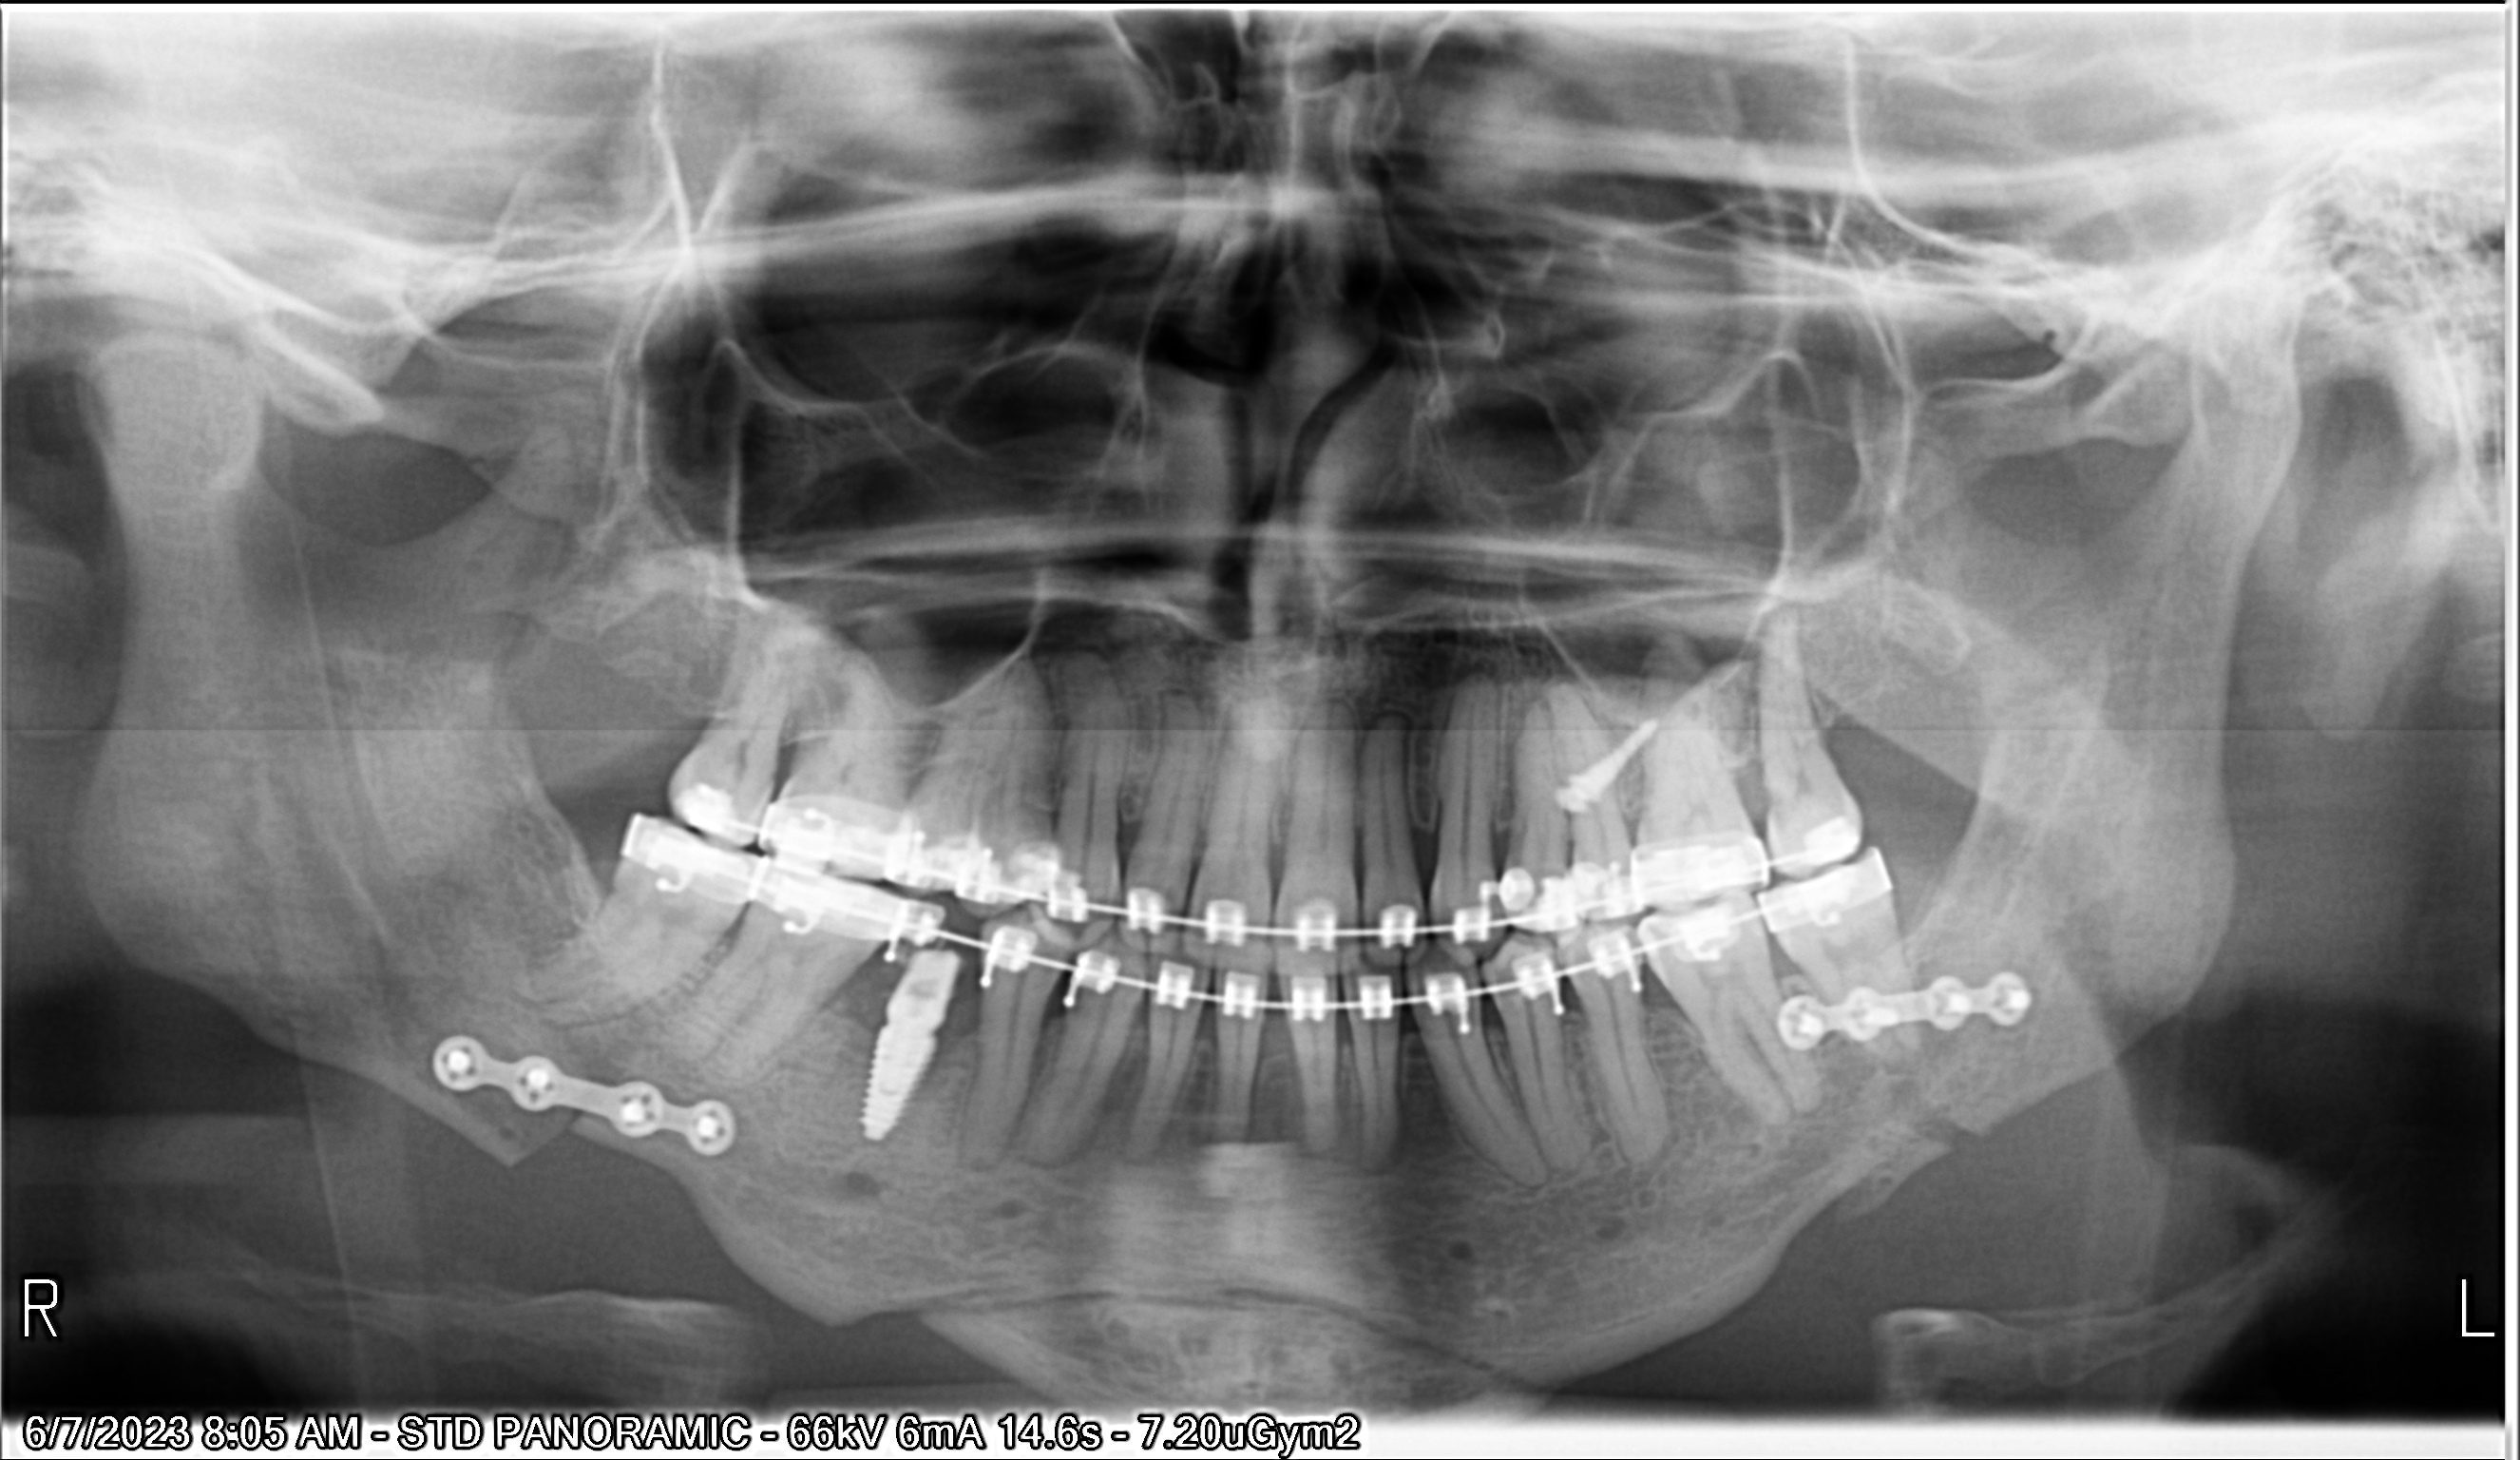IMP: (854, 932, 959, 1177)
OBT: (674, 773, 729, 850), (1019, 838, 1061, 900), (1565, 855, 1603, 921), (1804, 815, 1848, 869), (959, 834, 992, 902), (1683, 916, 1738, 952), (1501, 859, 1534, 914), (1471, 879, 1504, 925)
ORD: (1558, 683, 1639, 824)
SRD: (408, 1008, 731, 1163), (1770, 961, 2053, 1050)
